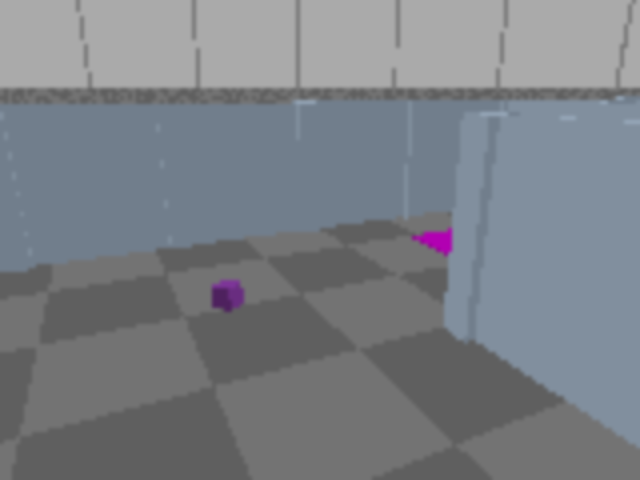puck: (212, 279, 243, 312)
